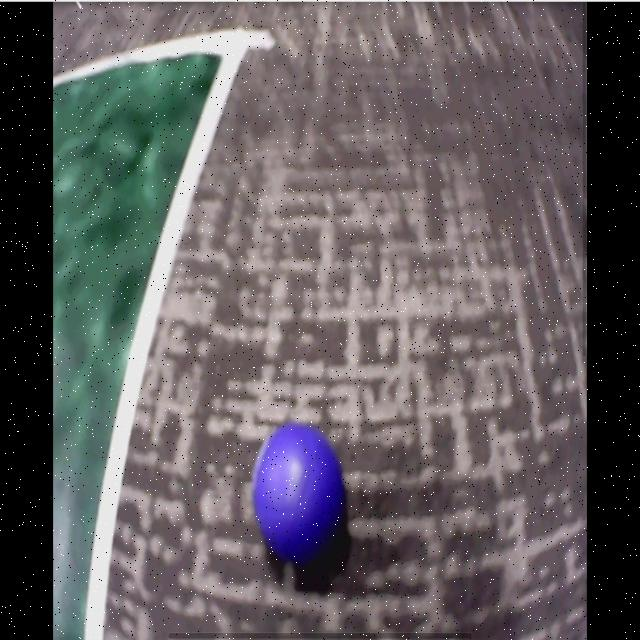ball: (253, 422, 344, 559)
